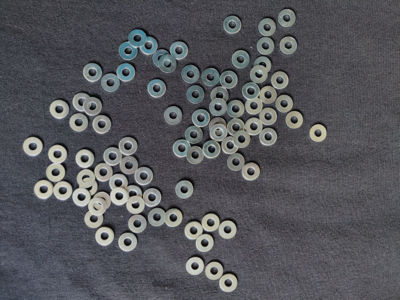circle: (81, 61, 104, 82), (21, 137, 44, 157), (45, 162, 66, 183), (68, 114, 90, 134), (276, 9, 297, 29), (180, 64, 200, 85), (163, 106, 184, 126), (100, 73, 121, 93), (175, 179, 195, 200), (231, 49, 251, 69), (126, 196, 146, 216), (119, 233, 139, 253), (185, 256, 205, 276), (219, 274, 239, 294), (222, 15, 243, 34), (226, 99, 245, 120), (226, 153, 247, 172), (147, 79, 168, 98), (83, 97, 104, 116), (50, 99, 69, 120), (47, 145, 68, 164), (253, 55, 273, 74), (202, 67, 221, 87), (275, 93, 294, 113), (310, 123, 329, 143), (170, 41, 190, 60), (119, 41, 138, 61), (93, 115, 113, 134), (135, 166, 155, 185), (108, 174, 128, 193), (123, 185, 143, 204), (143, 188, 163, 207), (72, 188, 91, 208), (128, 215, 148, 234), (147, 208, 167, 227), (202, 212, 221, 232), (218, 220, 238, 239), (206, 261, 225, 281), (140, 35, 158, 56), (195, 234, 216, 252), (258, 17, 277, 36), (259, 86, 278, 105), (210, 86, 229, 105), (186, 86, 205, 105), (192, 109, 211, 128), (203, 140, 222, 159), (184, 126, 203, 145), (158, 55, 177, 74), (128, 28, 147, 47), (117, 63, 136, 82), (119, 137, 138, 156), (76, 149, 95, 168), (119, 156, 138, 175), (34, 180, 53, 199), (164, 209, 183, 228), (286, 110, 304, 130), (207, 117, 227, 135), (187, 146, 205, 166), (95, 163, 113, 183), (76, 170, 96, 188), (84, 211, 104, 229), (96, 227, 114, 247), (184, 222, 204, 240), (78, 178, 99, 195), (271, 71, 290, 89), (221, 70, 239, 89), (209, 99, 228, 117), (245, 118, 264, 136), (227, 119, 246, 137), (242, 162, 260, 181), (152, 49, 171, 67), (103, 147, 122, 165), (54, 182, 73, 200), (256, 37, 276, 54), (93, 192, 110, 212), (280, 37, 298, 55), (260, 128, 278, 146), (210, 124, 228, 142), (73, 92, 91, 110), (110, 189, 128, 207), (88, 199, 107, 216), (241, 83, 261, 99), (250, 66, 268, 83), (260, 108, 278, 125), (233, 131, 251, 148), (172, 140, 190, 157), (222, 137, 239, 154), (247, 97, 263, 115)
